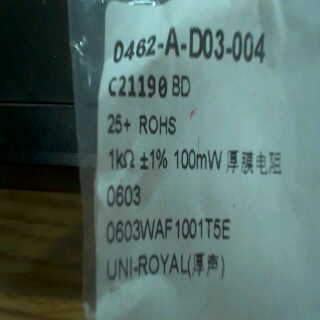1kR: (102, 144, 137, 174)
